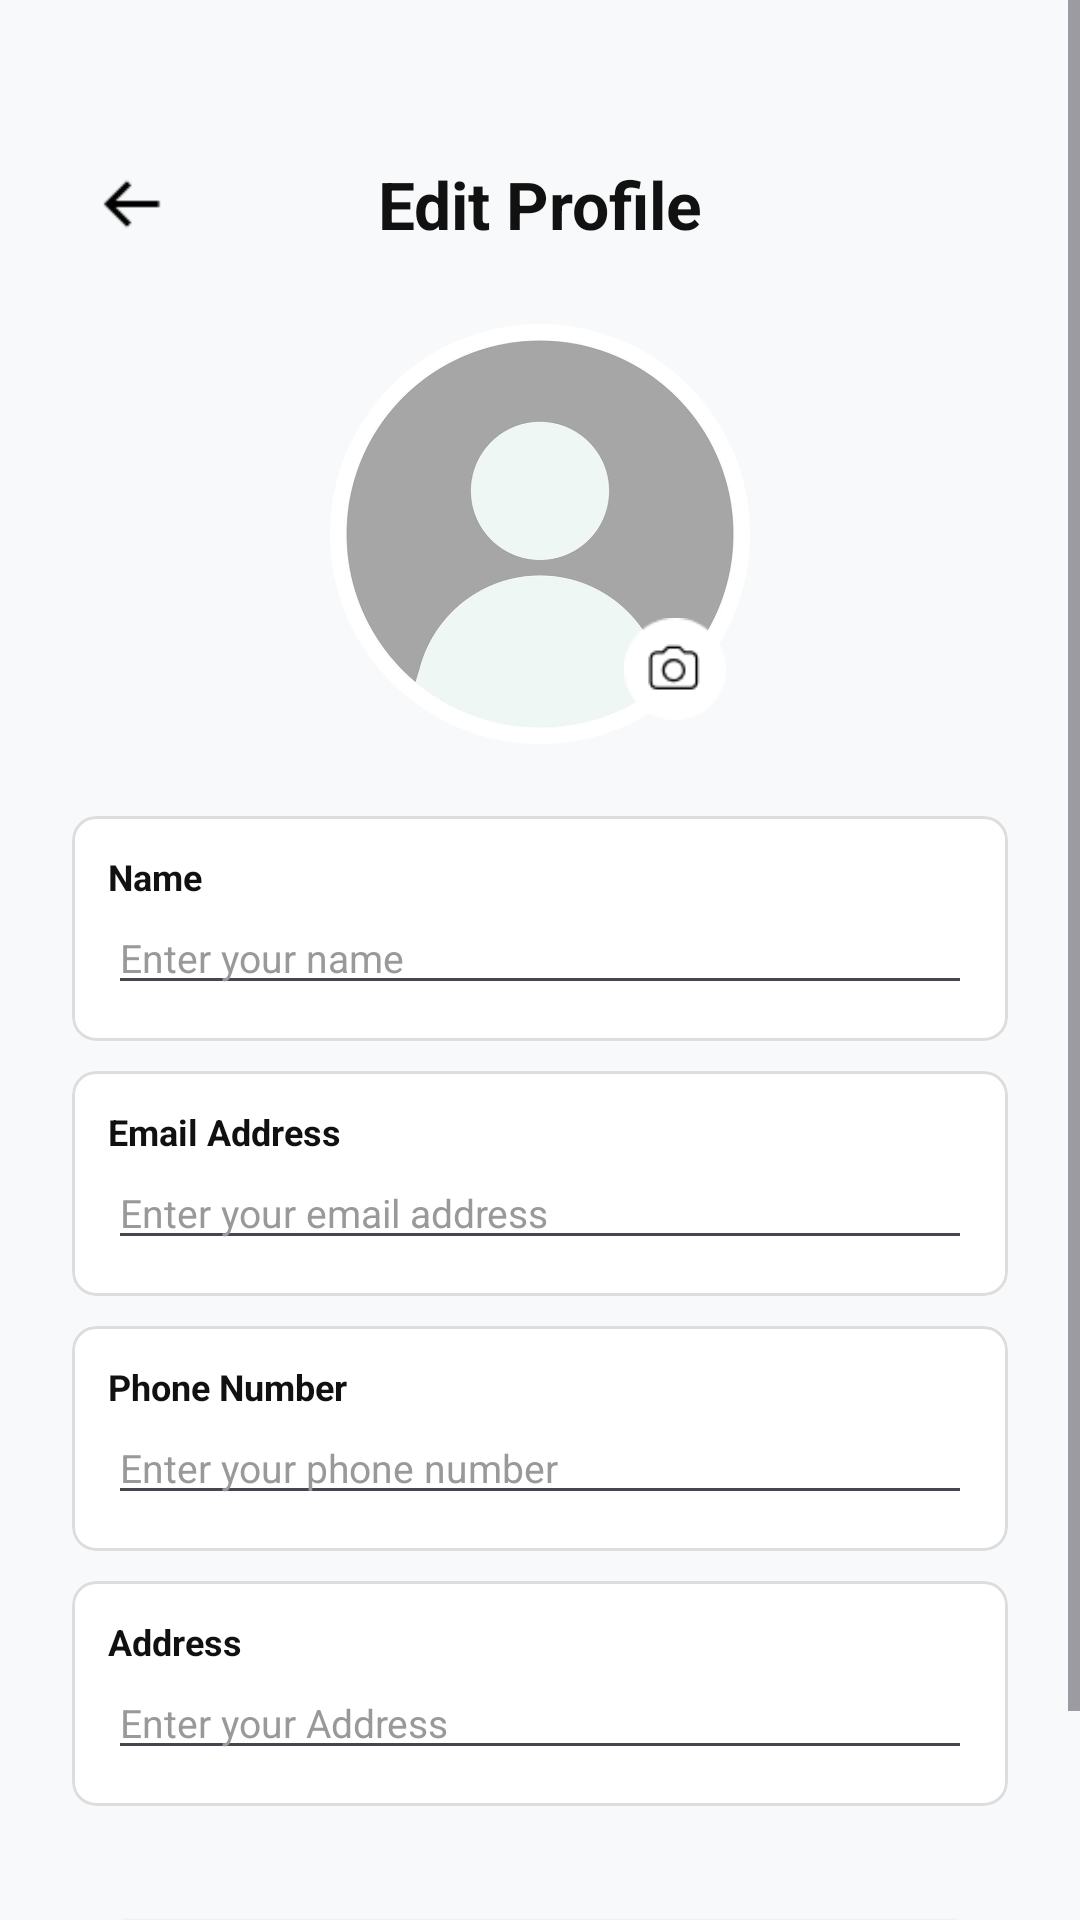

Point at icon controls on the screen. Image size 1080 x 1920, points as (x=x, y=y).
Back: (x=131, y=204)
